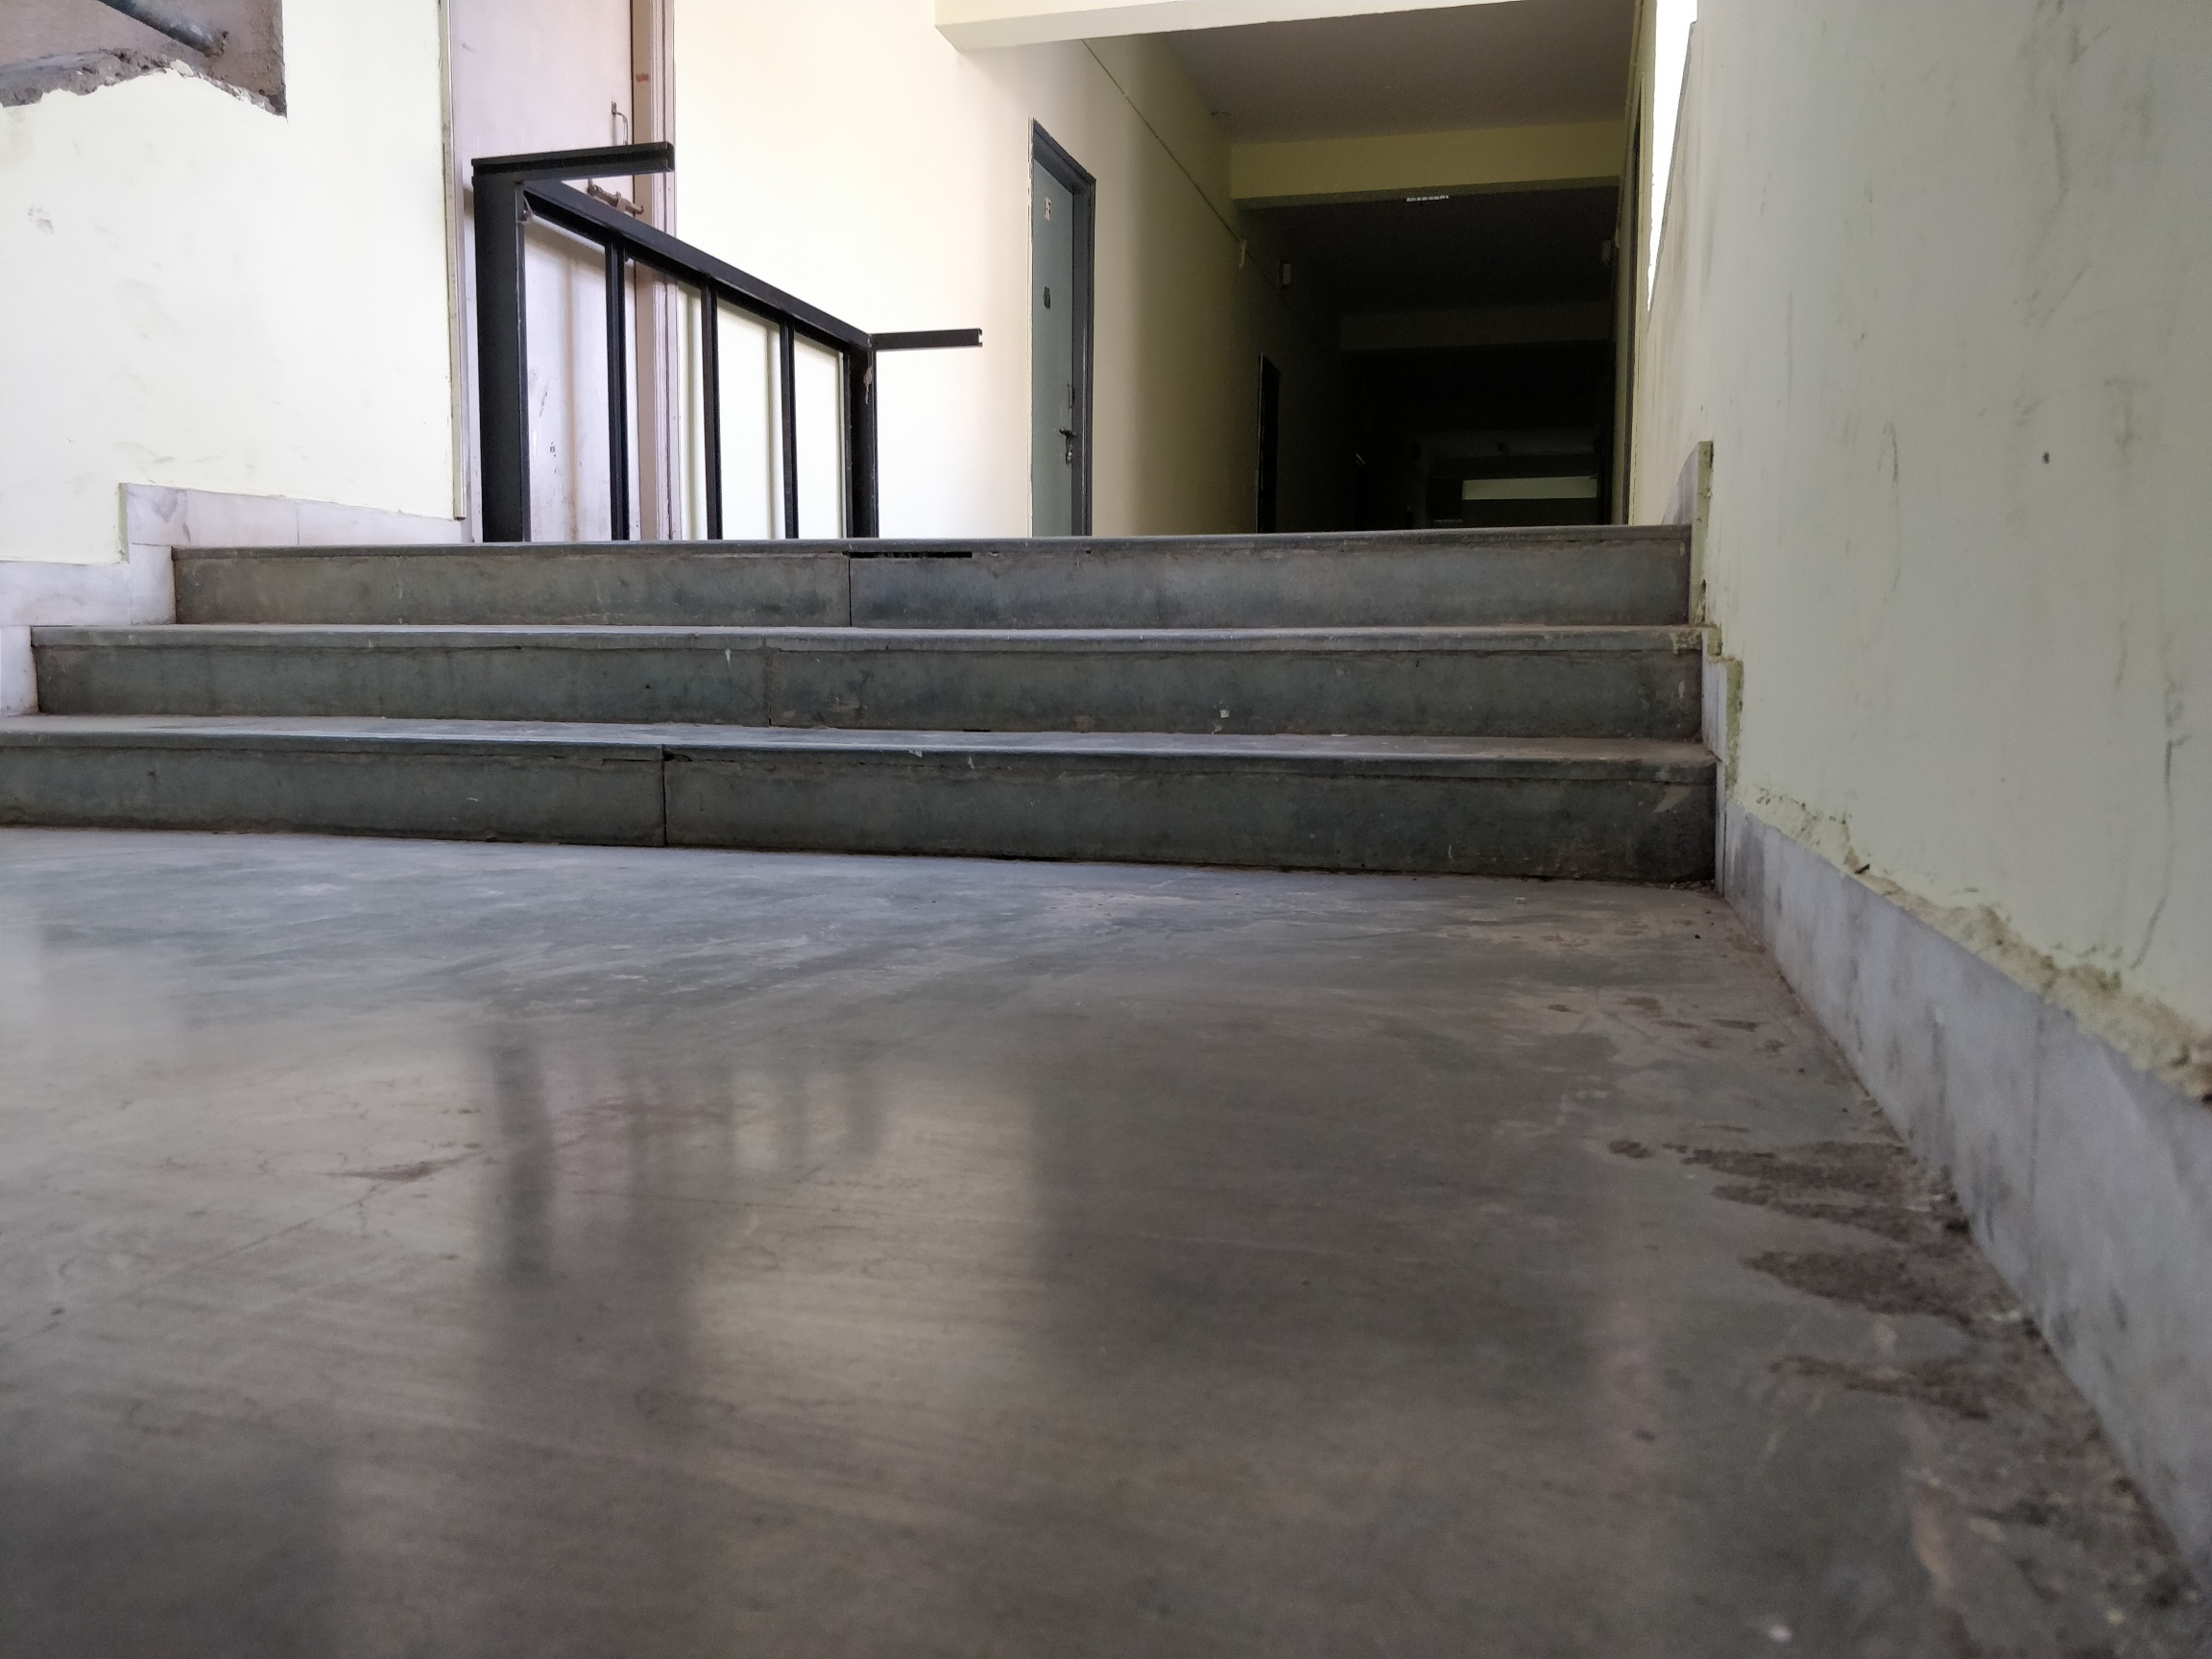stairs_up: (10, 525, 1691, 833)
